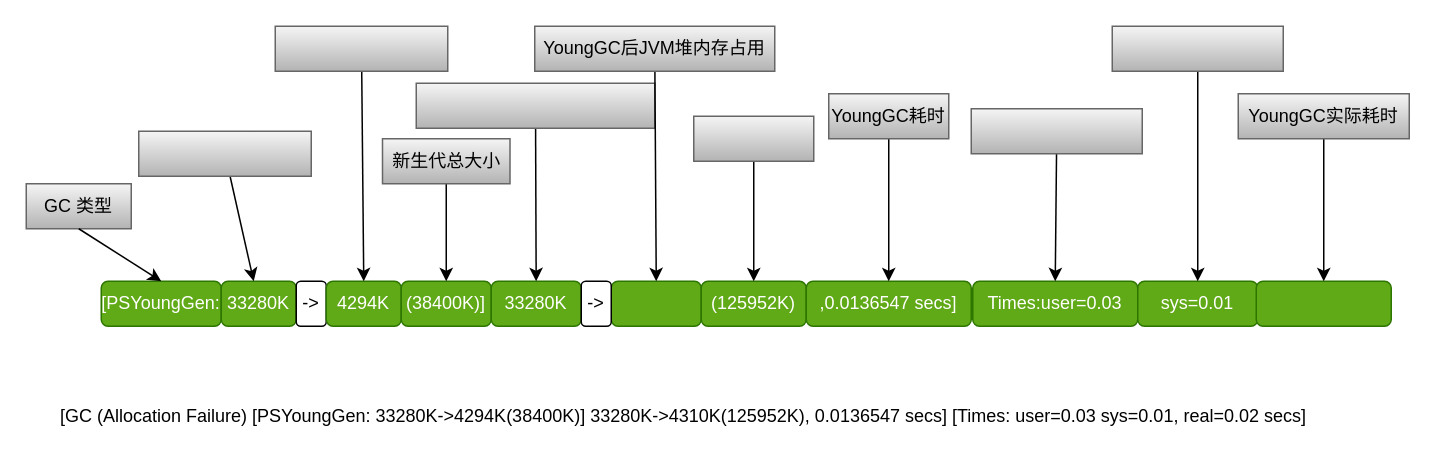
The diagram is 1436 pixels wide and 458 high, and some of its shapes have lost their labels. Each missing label, with the centre of its shape:
",real=0.02 secs" belongs at point 1323,303.
"4310K" belongs at point 655,303.
"JVM堆总大小" belongs at point 753,138.
"YoungGC前JVM堆内存占用" belongs at point 535,105.
"YoungGC前新生代内存占用" belongs at point 224,153.
"YoungGC后新生代内存占用" belongs at point 361,48.
"YoungGC用户耗时" belongs at point 1056,130.
"YoungGC系统耗时" belongs at point 1197,48.
